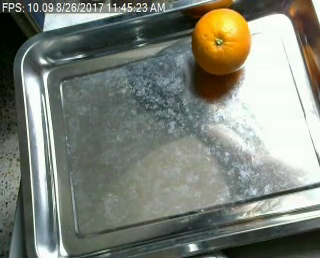Orange: (191, 8, 250, 75)
